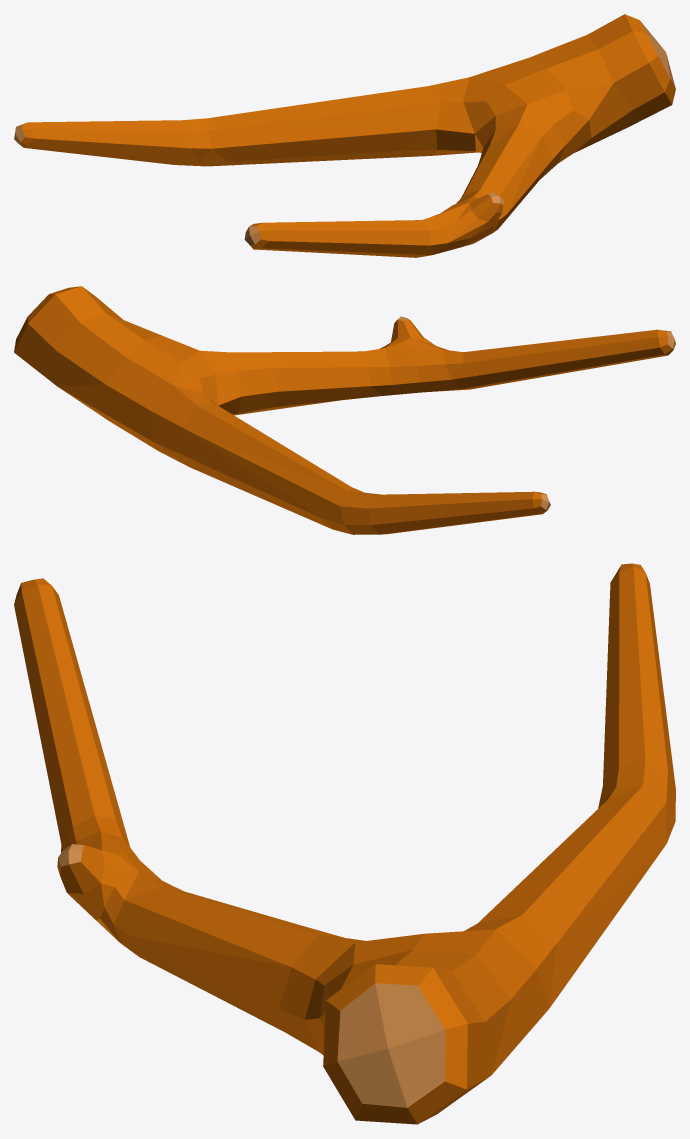
File: Log07.fbx
The picture shows the model from 3 angles, top to bottom: view 1: azimuth 30°, elevation 25°; view 2: azimuth 150°, elevation 25°; view 3: azimuth 270°, elevation 25°; orthographic projection. The views are drawn at different scales.
Parts seen in each view (by area): view 1: Plane; view 2: Plane; view 3: Plane.
Boxes of the visible parts, x1,y1,x2,y2 form: Plane: [14, 14, 675, 257]; Plane: [14, 286, 675, 534]; Plane: [14, 563, 675, 1124].
Size of the model in its own units: 147 by 27.27 by 85.96.
